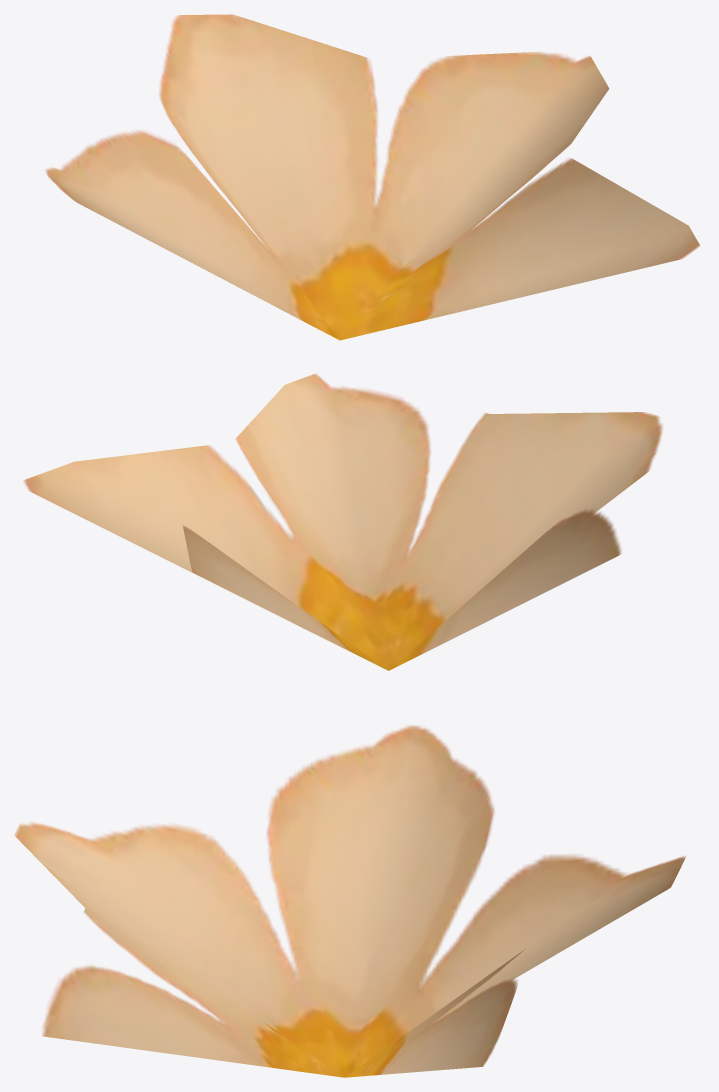
File: n_petal_white.glb
The picture shows the model from 3 angles, top to bottom: view 1: azimuth 30°, elevation 25°; view 2: azimuth 150°, elevation 25°; view 3: azimuth 270°, elevation 25°; orthographic projection. The views are drawn at different scales.
Visible parts, largest first — view 1: Petal_2; view 2: Petal_2; view 3: Petal_2.
Part boxes in pixels (box(x1,y1,x2,y2)): Petal_2: box(45, 14, 699, 340); Petal_2: box(23, 373, 662, 670); Petal_2: box(14, 725, 685, 1077).
Bounding box in the file's own units: 0.6732 × 0.236 × 0.6311.
1 material, 1 textured.
